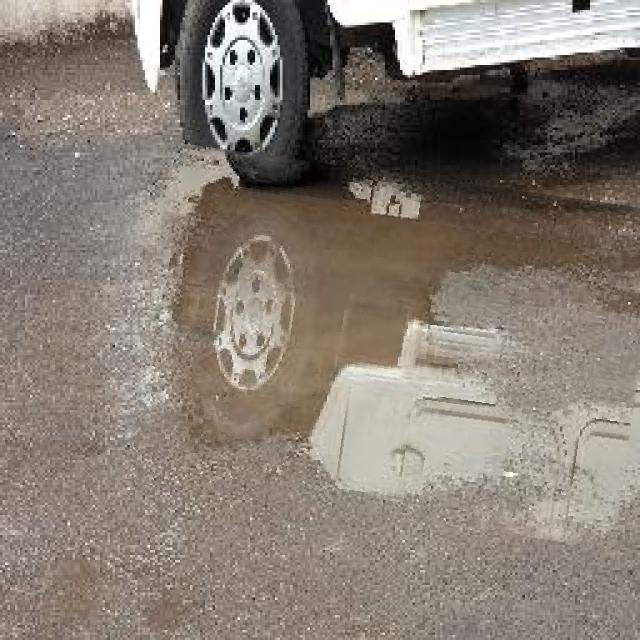puddle: (137, 159, 640, 534)
